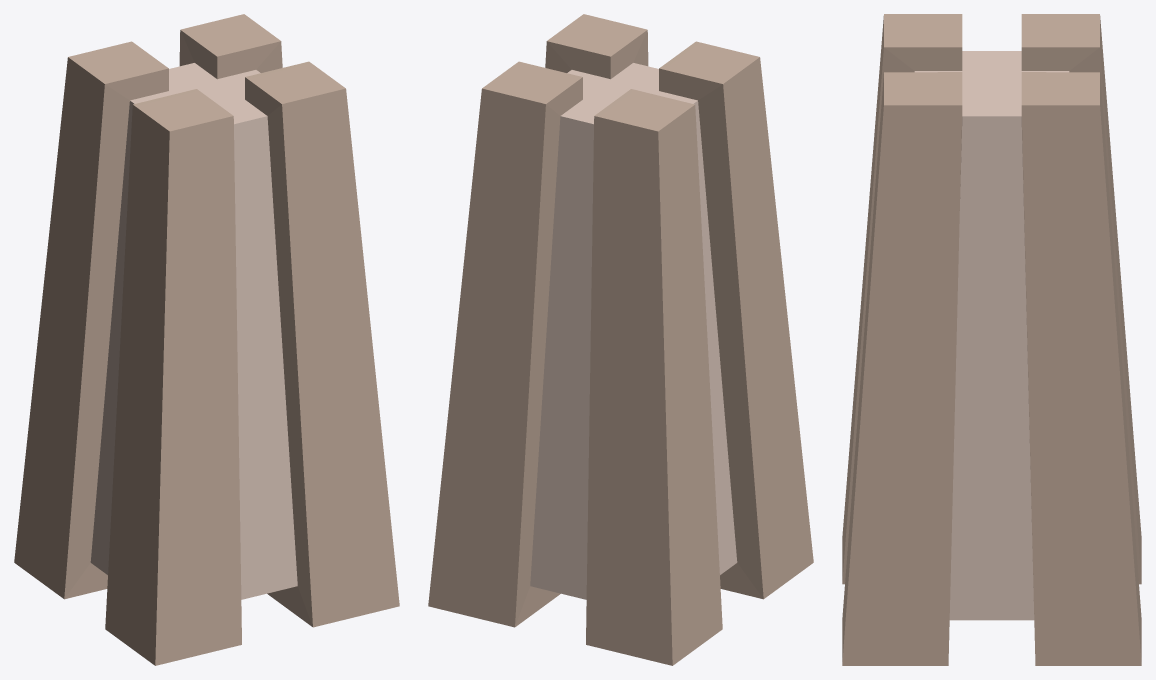
File: DustCity_InnerWallsTower.fbx
3 renders of one model, left to right at view 1: azimuth 30°, elevation 25°; view 2: azimuth 150°, elevation 25°; view 3: azimuth 270°, elevation 25°, orthographic. The views are drawn at different scales.
Visible parts, largest first — view 1: DCInnerWallTower; view 2: DCInnerWallTower; view 3: DCInnerWallTower.
Part boxes in pixels (box(x1,y1,x2,y2)): DCInnerWallTower: box(14, 14, 399, 665); DCInnerWallTower: box(428, 14, 813, 665); DCInnerWallTower: box(842, 14, 1141, 665).
Bounding box in the file's own units: 50 × 100 × 50.
